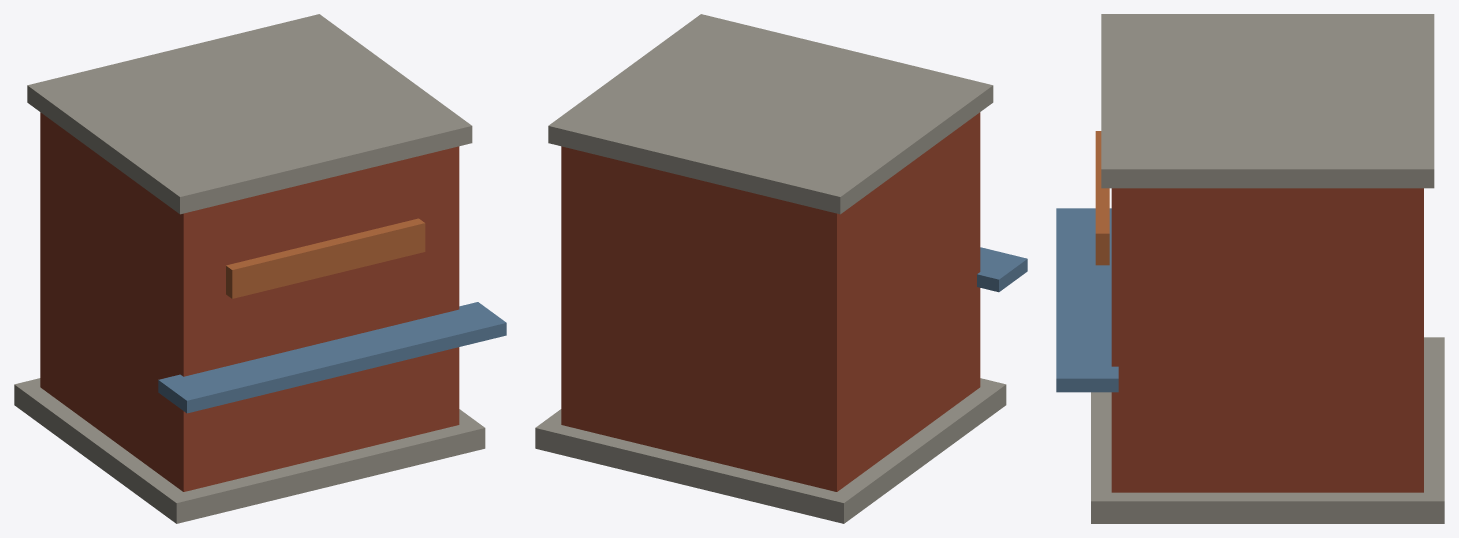
File: bld_commercial_a04_lod2.glb
3 renders of one model, left to right at view 1: azimuth 30°, elevation 25°; view 2: azimuth 150°, elevation 25°; view 3: azimuth 270°, elevation 25°, orthographic. The views are drawn at different scales.
Parts seen in each view (by area): view 1: body; view 2: body; view 3: body.
Part boxes in pixels (bbox=[...]): body: bbox=[14, 14, 506, 523]; body: bbox=[535, 14, 1027, 523]; body: bbox=[1056, 14, 1444, 523].
Size of the model in its own units: 5.8 by 5.57 by 5.6.
